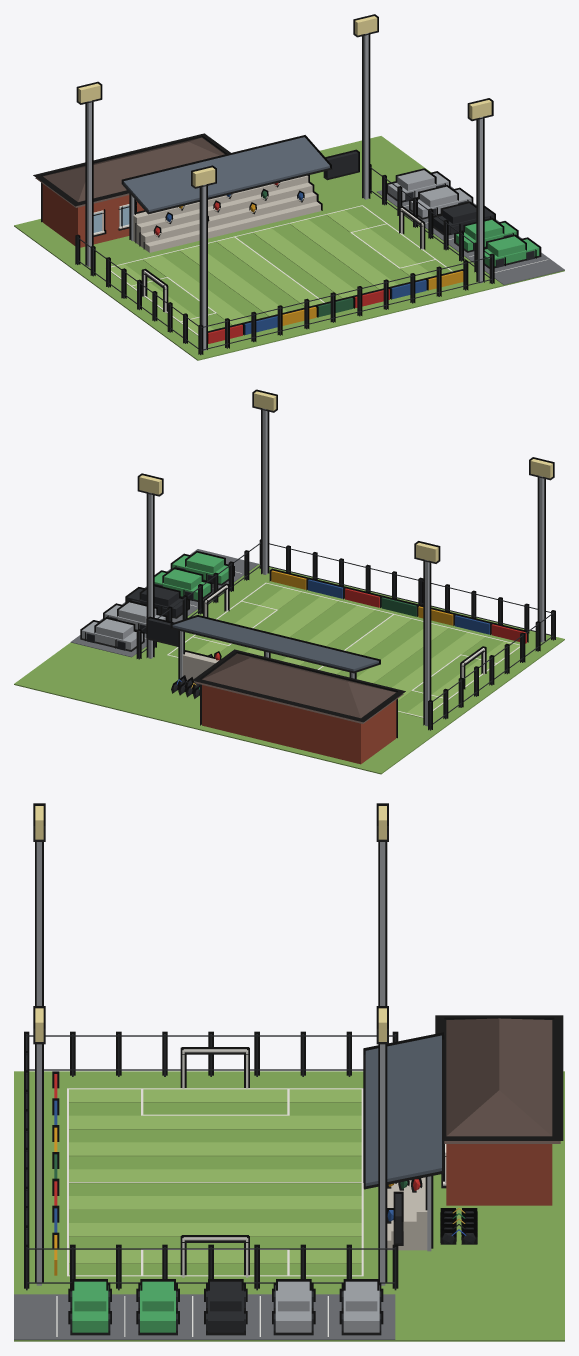
The model's file is Simge_stadyum.fbx.
The picture shows the model from 3 angles, top to bottom: view 1: azimuth 30°, elevation 25°; view 2: azimuth 150°, elevation 25°; view 3: azimuth 270°, elevation 25°; orthographic projection. The views are drawn at different scales.
Visible parts, largest first — view 1: Simge_stadyum; view 2: Simge_stadyum; view 3: Simge_stadyum.
Boxes of the visible parts, x1,y1,x2,y2 form: Simge_stadyum: (14,14,564,360); Simge_stadyum: (14,389,564,774); Simge_stadyum: (14,803,564,1341).
Bounding box in the file's own units: 30 × 14.22 × 26.
